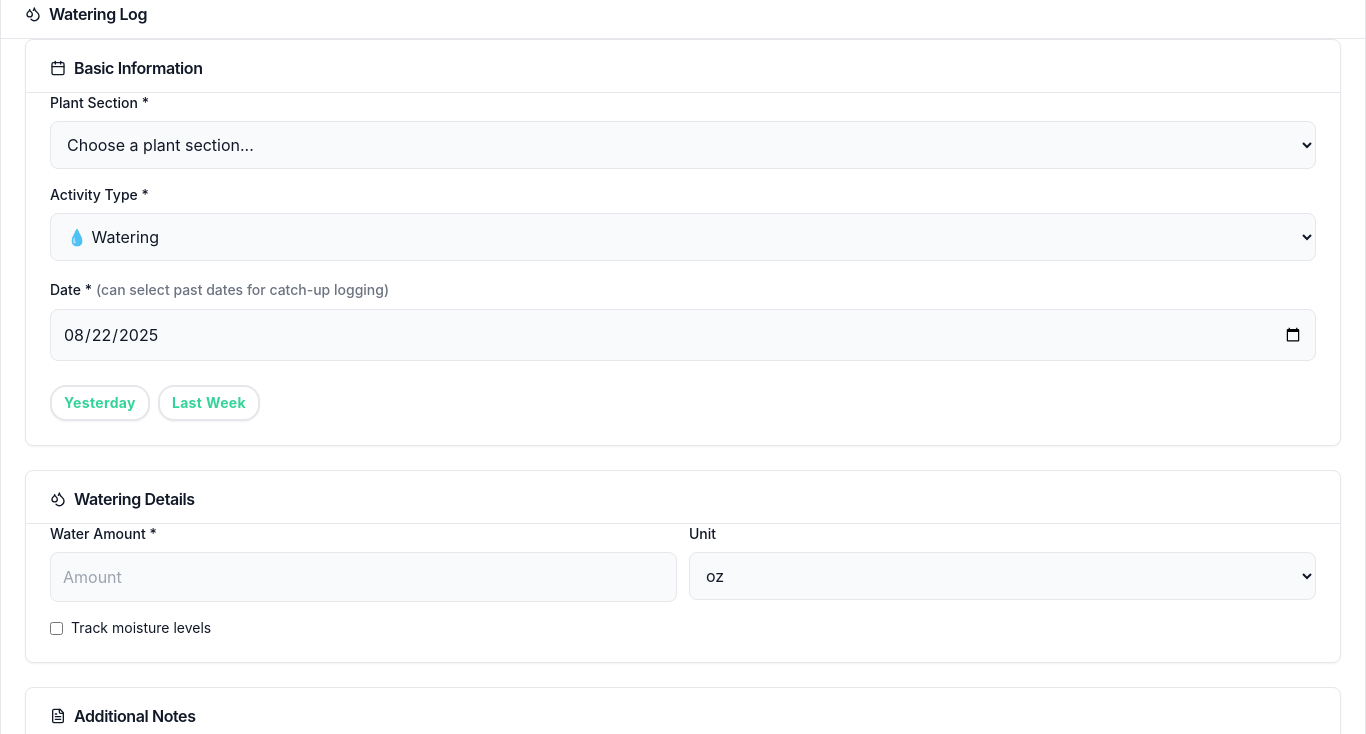
CareLogForm › Activity Types › does not show activity-specific fields for observe activity
The width and height of the screenshot is (1366, 734).
Select "Tomato (1 plant)" in the dropdown labelled "Plant Section *" at (683, 145), box [50, 121, 1316, 169]
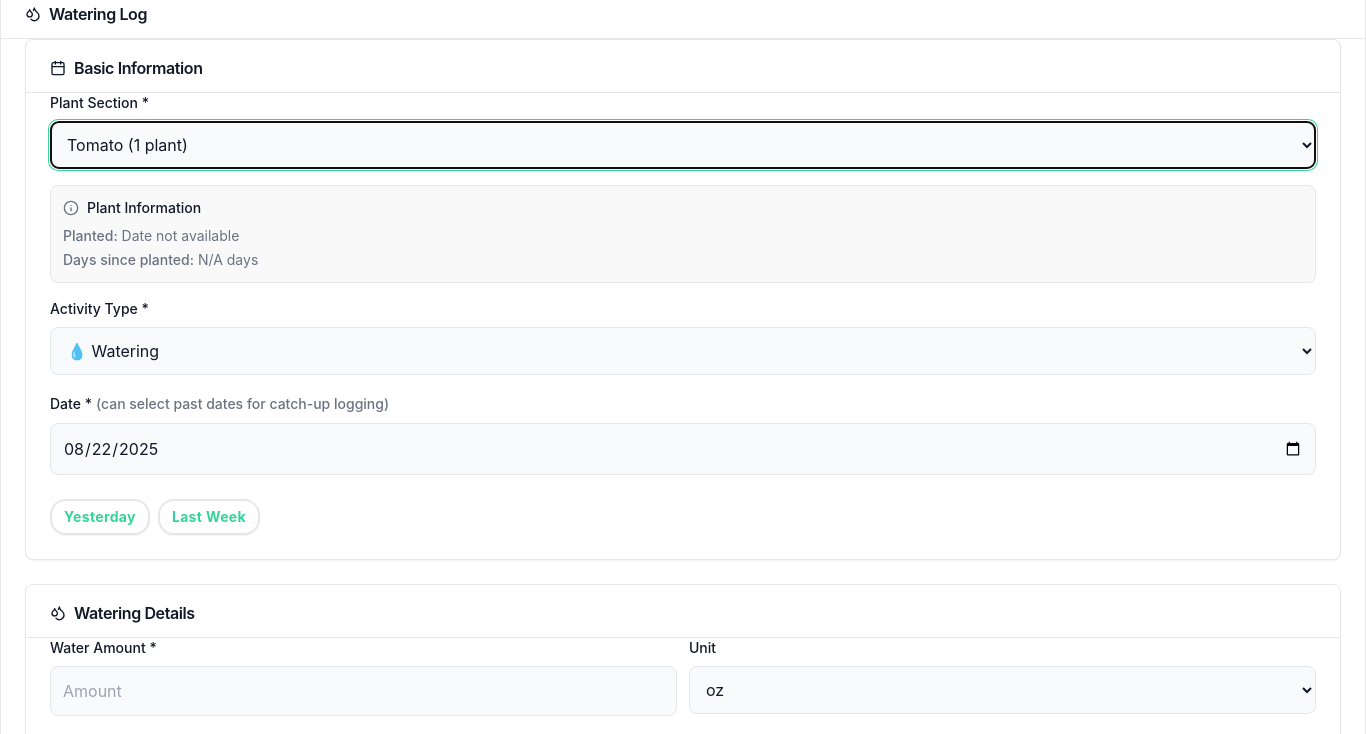
Select "👁️ Health Check" in the dropdown labelled "Activity Type *" at (683, 351), box [50, 327, 1316, 375]
(page scrolled)
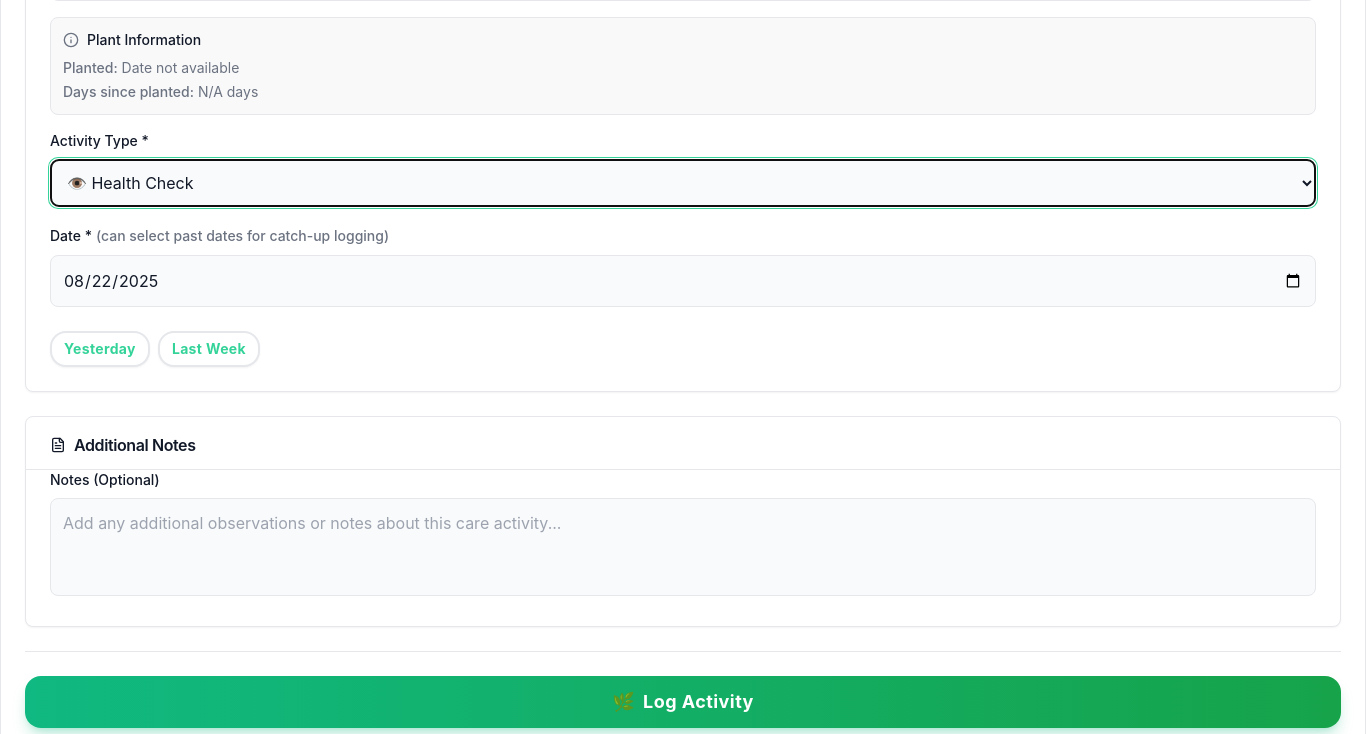
Expected: the text box labelled "Notes (Optional)" is shown, [50, 498, 1316, 596]
Expected: the text "Water Amount" is gone
